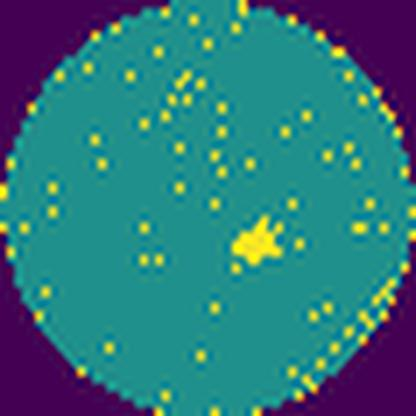Edge-Loc: (228, 212, 286, 268)
